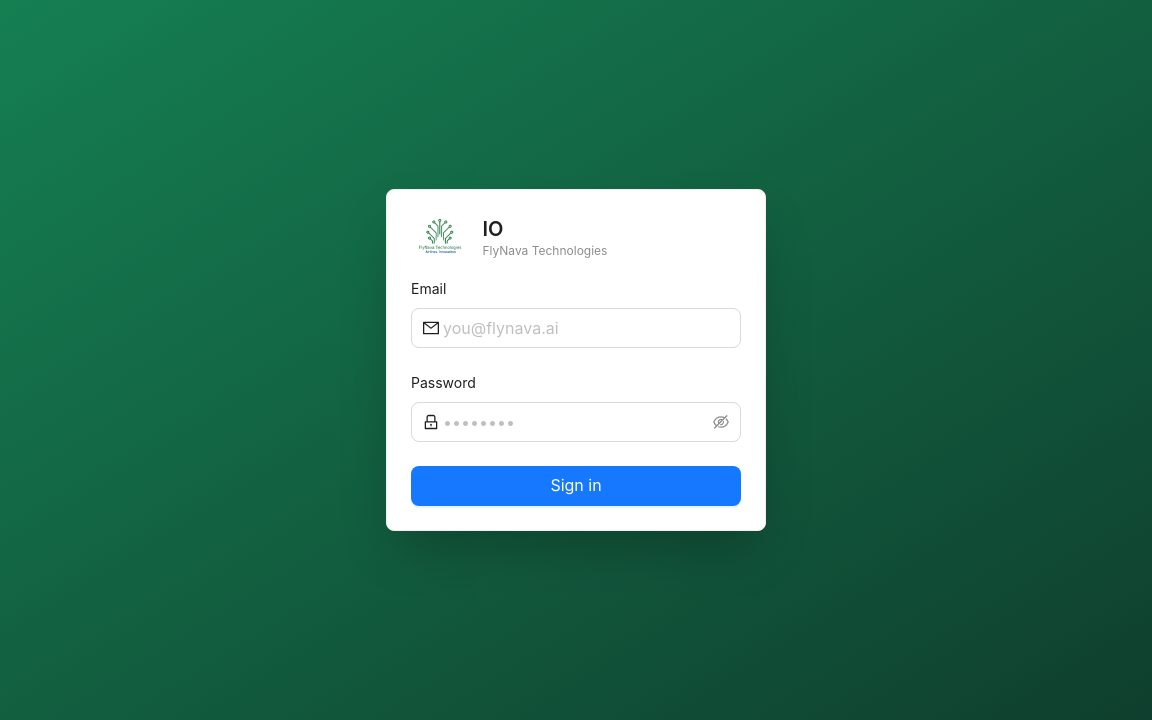
shows error on invalid credentials
The width and height of the screenshot is (1152, 720).
In the field labelled "Email": (586, 328) [443, 316, 729, 340], type "x@flynava.ai"
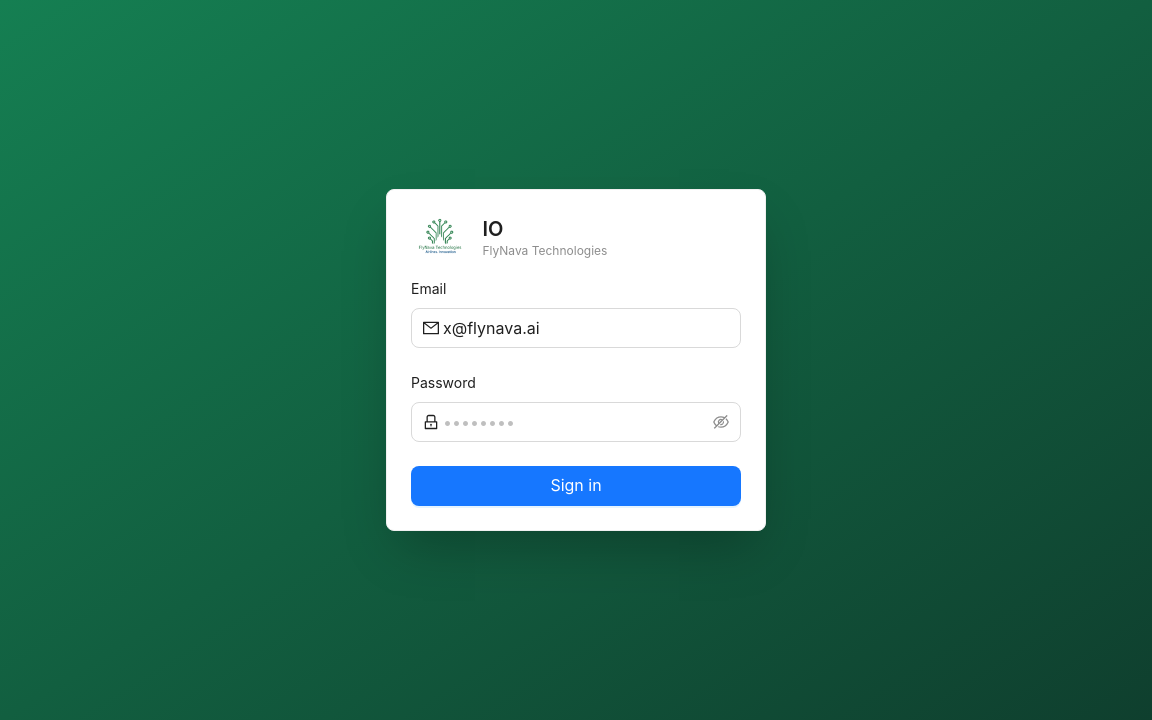
In the password field labelled "Password": (576, 422) [443, 410, 709, 434], type "wrong"
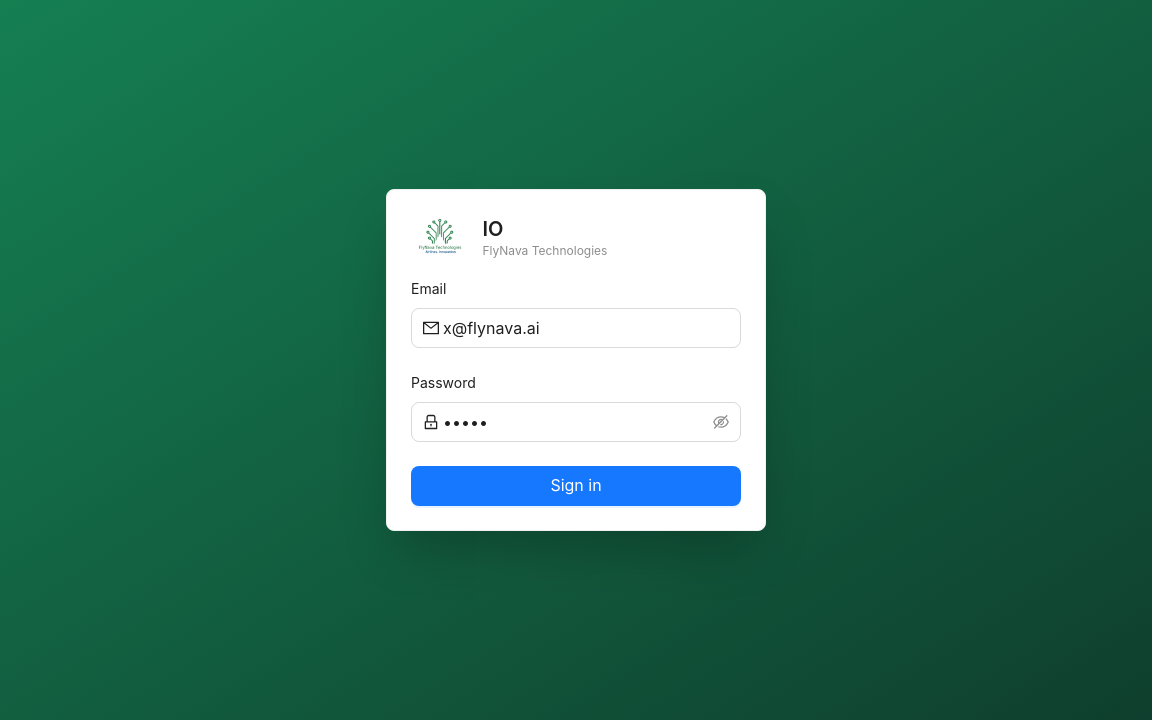
Click the button "Sign in": (576, 486) [411, 466, 741, 506]
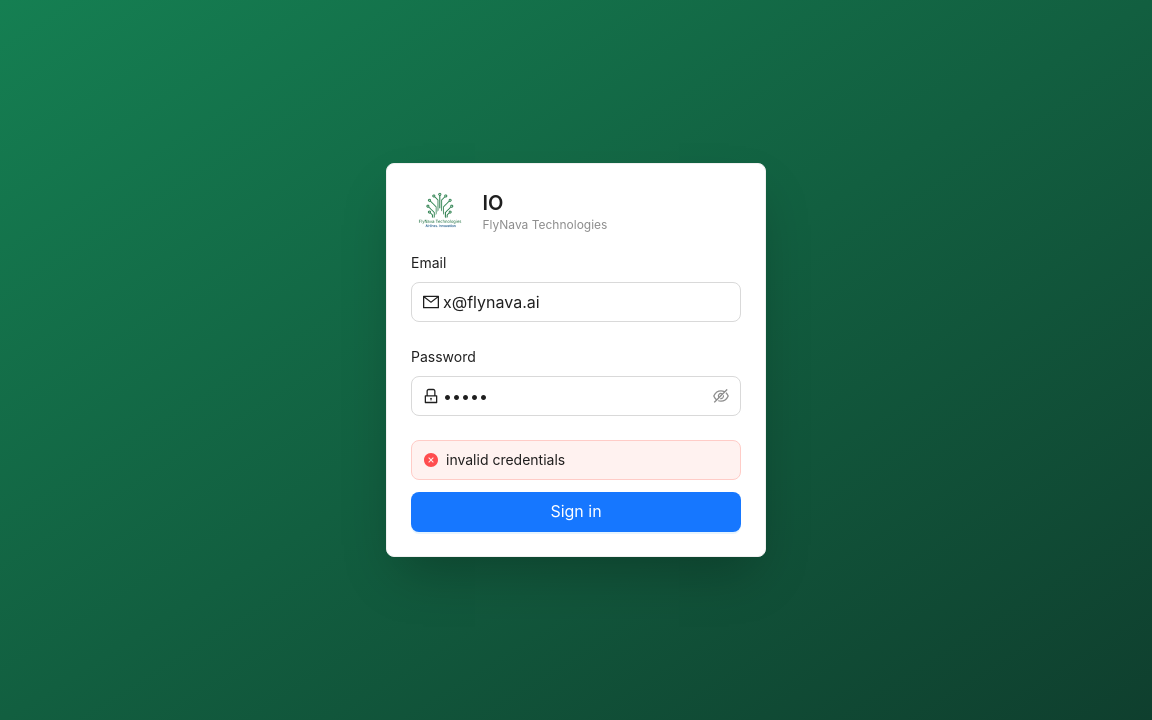
Expected: the text "invalid credentials" is shown, [446, 451, 565, 468]
